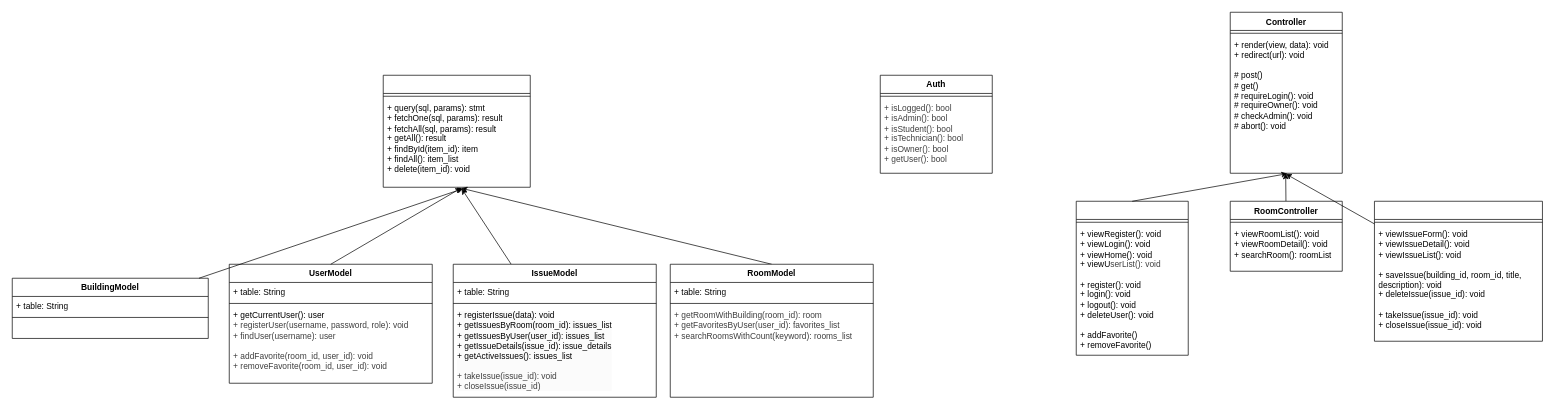
Some shapes in this 1555 by 412 pixel diagram are drawn without their labels. The shapes that lost their labels are listed below. From the top down, each one's box as (x1, y1, x2, y2) in pixels, then its label:
(383, 75, 530, 187): Model
(1076, 201, 1188, 355): UserController
(1374, 201, 1542, 341): IssueController
